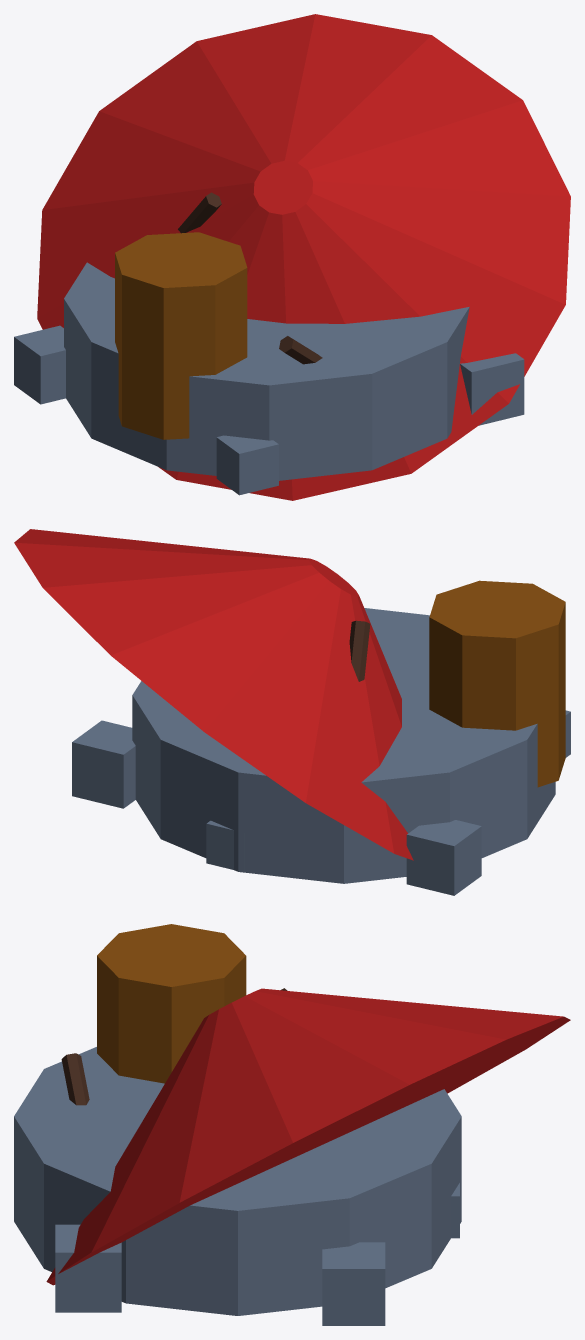
File: casa_pino_ruina.glb
The picture shows the model from 3 angles, top to bottom: view 1: azimuth 30°, elevation 25°; view 2: azimuth 150°, elevation 25°; view 3: azimuth 270°, elevation 25°; orthographic projection. The views are drawn at different scales.
Parts seen in each view (by area): view 1: Cone, Cylinder, Cylinder.001, Cube, Cube.002, Cube.001, Cylinder.002, Cylinder.004; view 2: Cone, Cylinder, Cylinder.001, Cube, Cube.003, Cube.004, Cylinder.002; view 3: Cylinder, Cone, Cylinder.001, Cube.003, Cube.001, Cylinder.004.
Boxes of the visible parts, bbox=[...] form: Cone: bbox=[37, 14, 570, 500]; Cylinder: bbox=[64, 262, 469, 480]; Cylinder.001: bbox=[115, 232, 247, 439]; Cube: bbox=[14, 325, 65, 404]; Cube.002: bbox=[216, 435, 278, 495]; Cube.001: bbox=[460, 353, 524, 425]; Cylinder.002: bbox=[178, 192, 221, 233]; Cylinder.004: bbox=[279, 336, 322, 364]; Cone: bbox=[14, 529, 413, 860]; Cylinder: bbox=[132, 608, 555, 883]; Cylinder.001: bbox=[429, 580, 565, 787]; Cube: bbox=[406, 820, 481, 895]; Cube.003: bbox=[72, 720, 135, 808]; Cube.004: bbox=[206, 820, 244, 872]; Cylinder.002: bbox=[349, 620, 370, 681]; Cylinder: bbox=[14, 1047, 461, 1315]; Cone: bbox=[46, 988, 570, 1285]; Cylinder.001: bbox=[97, 924, 246, 1083]; Cube.003: bbox=[322, 1242, 385, 1325]; Cube.001: bbox=[55, 1224, 121, 1312]; Cylinder.004: bbox=[61, 1053, 89, 1105].
Bounding box in the file's own units: 3.49 × 2.2 × 3.36.
